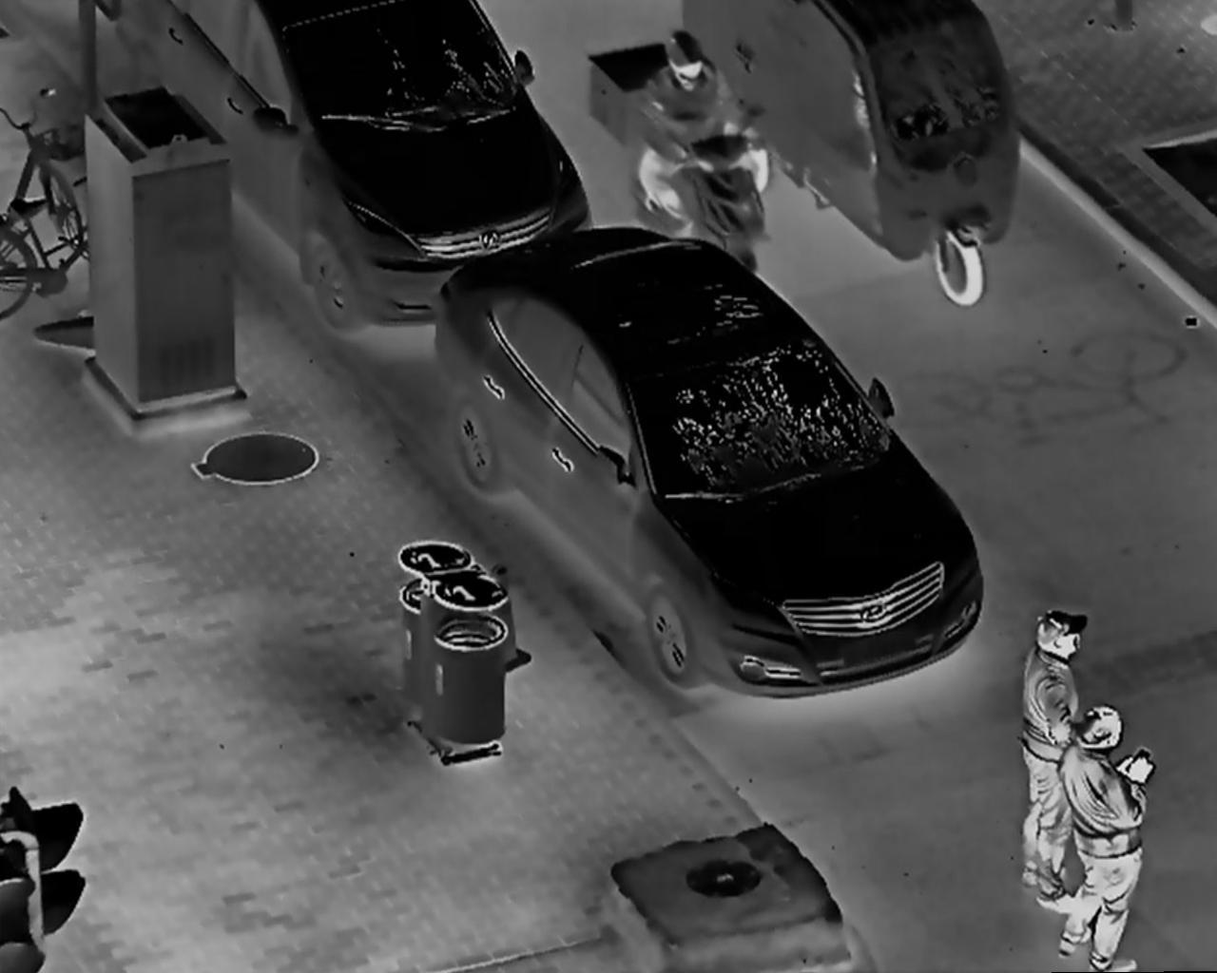person: (1053, 704, 1149, 973), (1013, 610, 1092, 915), (647, 34, 757, 239)
